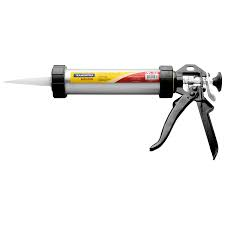Arma Falsa: (6, 53, 222, 177)
